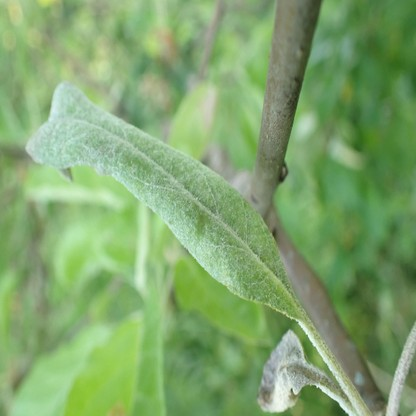powdery_mildew: (25, 83, 301, 318), (259, 328, 307, 414)
